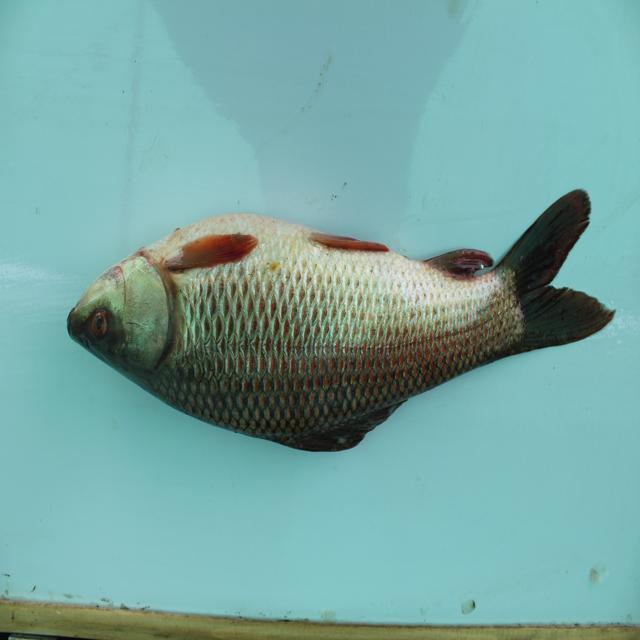Grass Carp: (71, 187, 615, 452)
